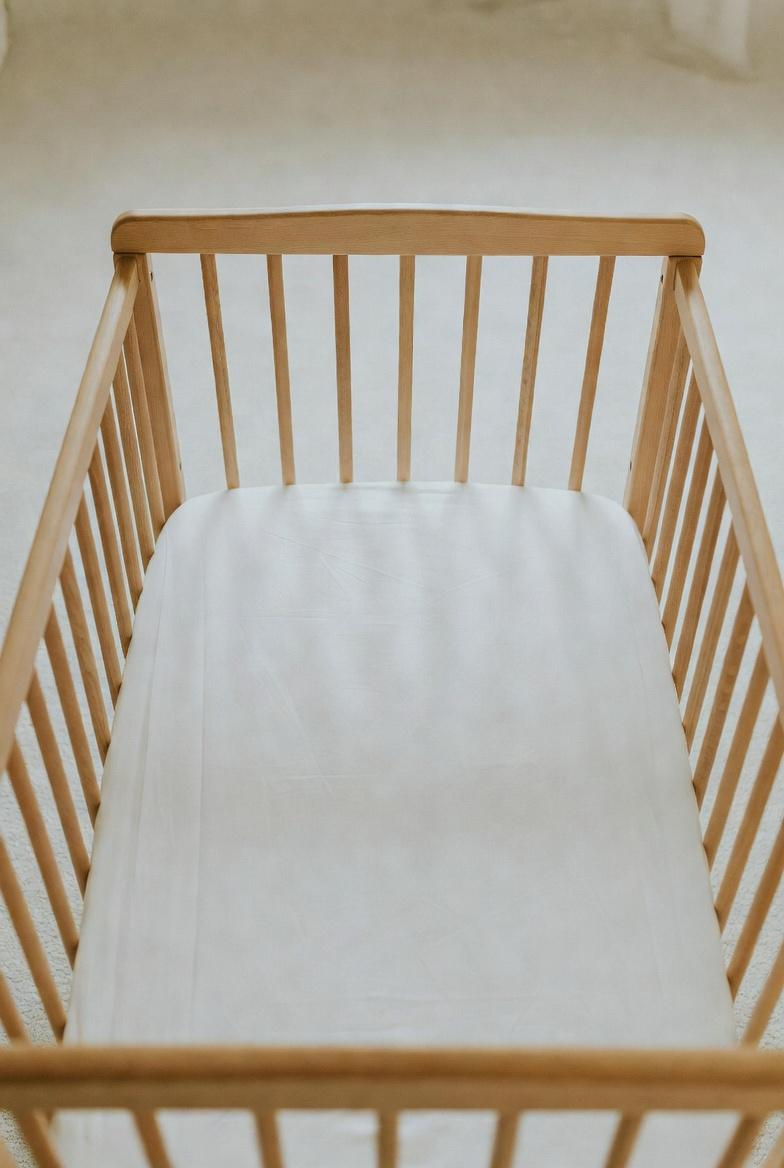crib: (0, 207, 784, 1168)
